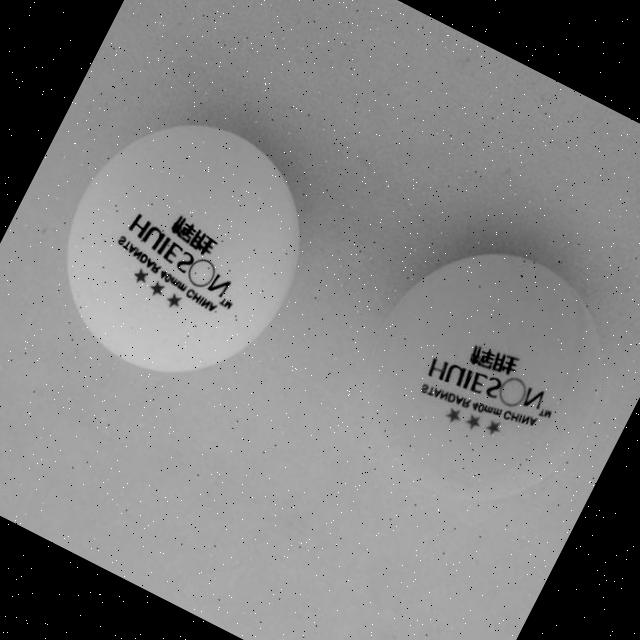ping-pong-ball: (317, 206, 640, 551), (17, 79, 345, 418)
